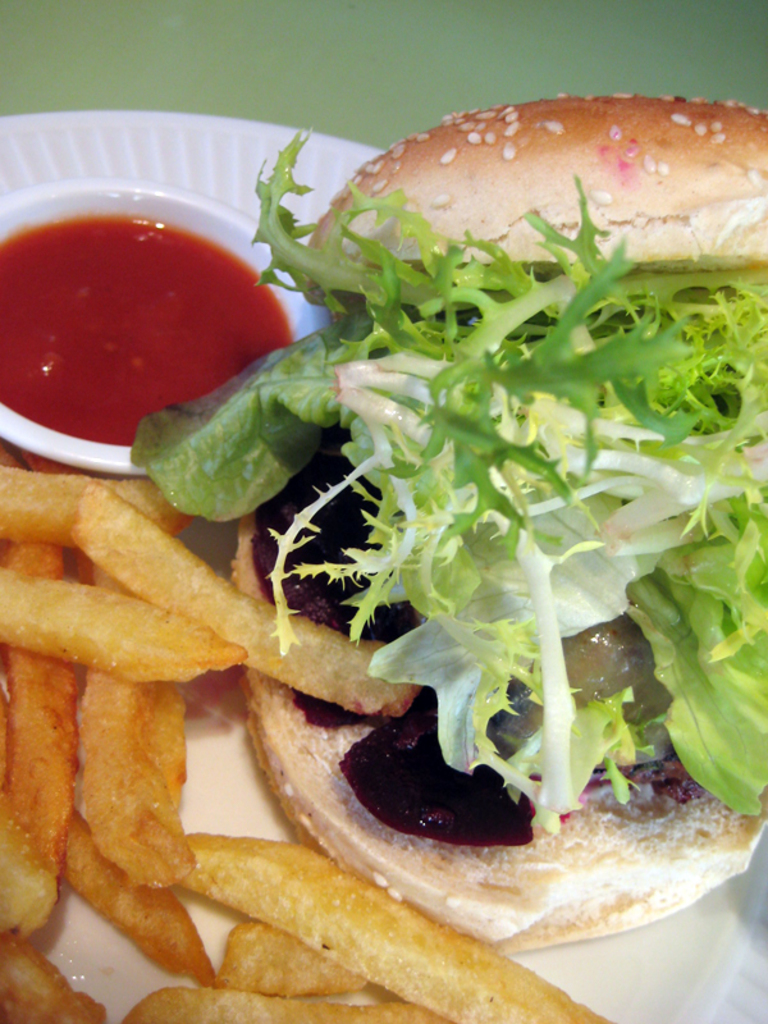French fries: (0, 414, 336, 934)
